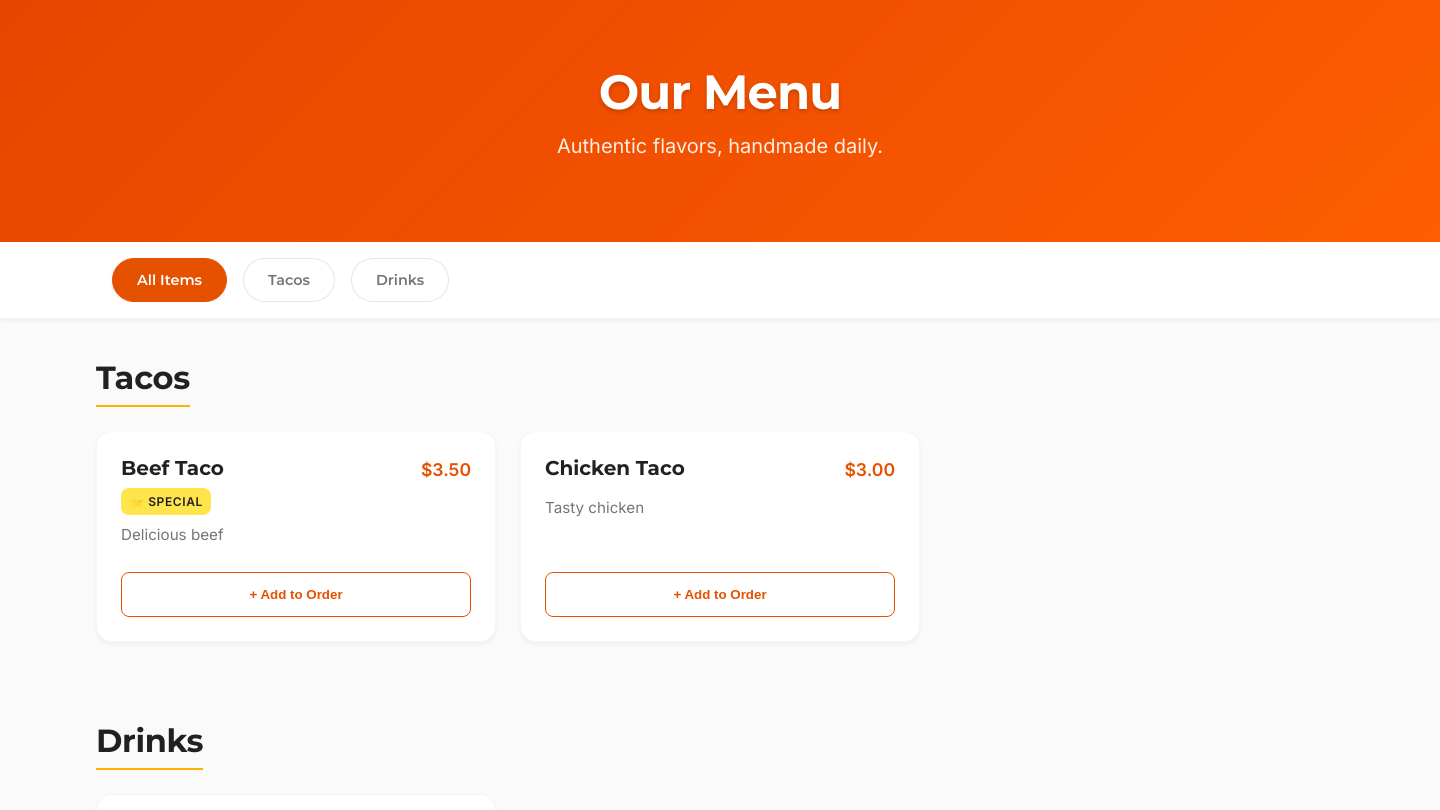
Scenario: Menu Page › filters menu items by category
Expected: the heading "Our Menu" is shown, x1=599 y1=63 x2=841 y2=121
Expected: the heading "Beef Taco" is shown, x1=121 y1=456 x2=224 y2=480
# Click Drinks category button
Click the button "Drinks". click: click(400, 280)
box: x1=351 y1=258 x2=449 y2=302
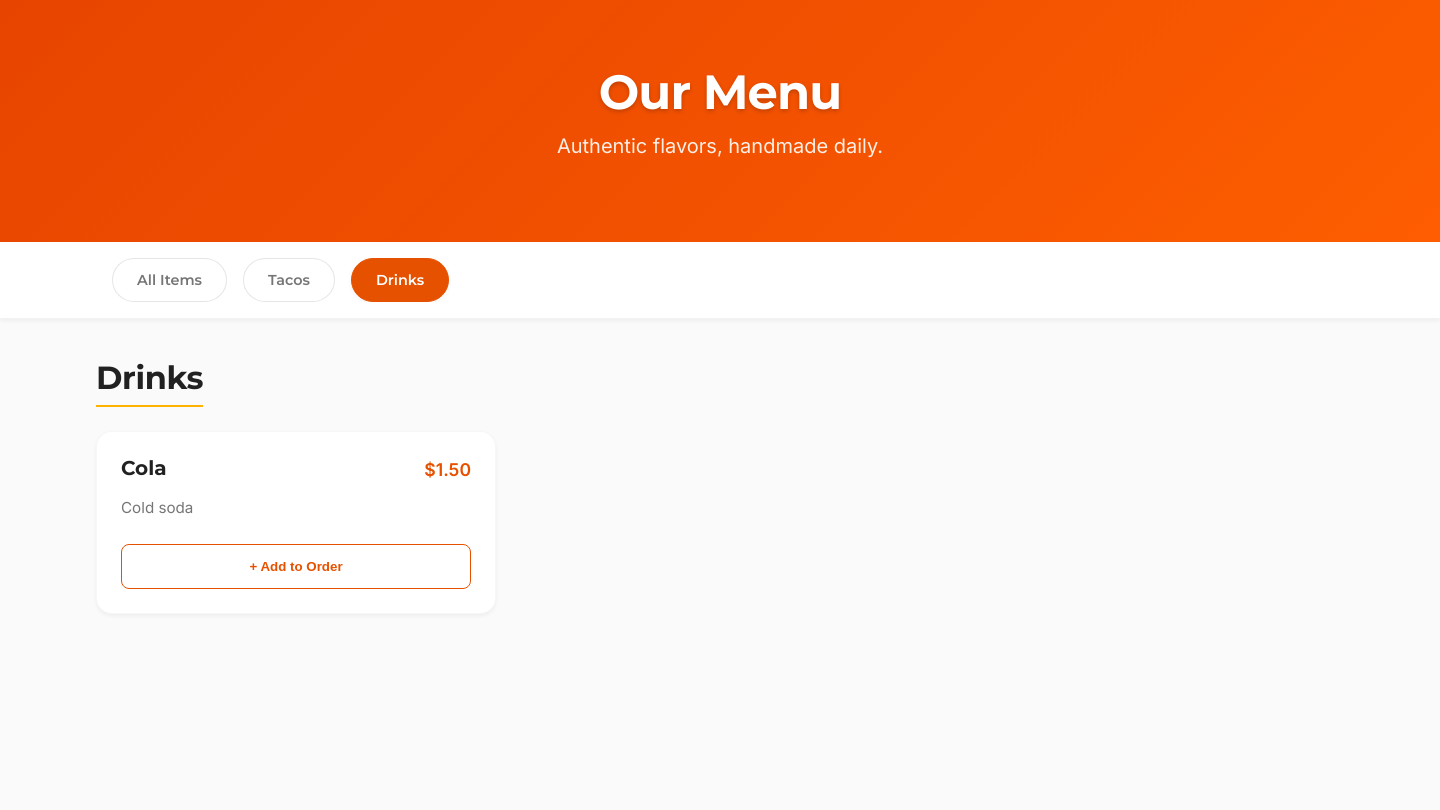
Expected: the heading "Cola" is shown, x1=121 y1=456 x2=167 y2=480
Expected: the heading "Beef Taco" is gone
# Click All Items button
Click the button "All Items". click: click(170, 280)
box: x1=112 y1=258 x2=227 y2=302
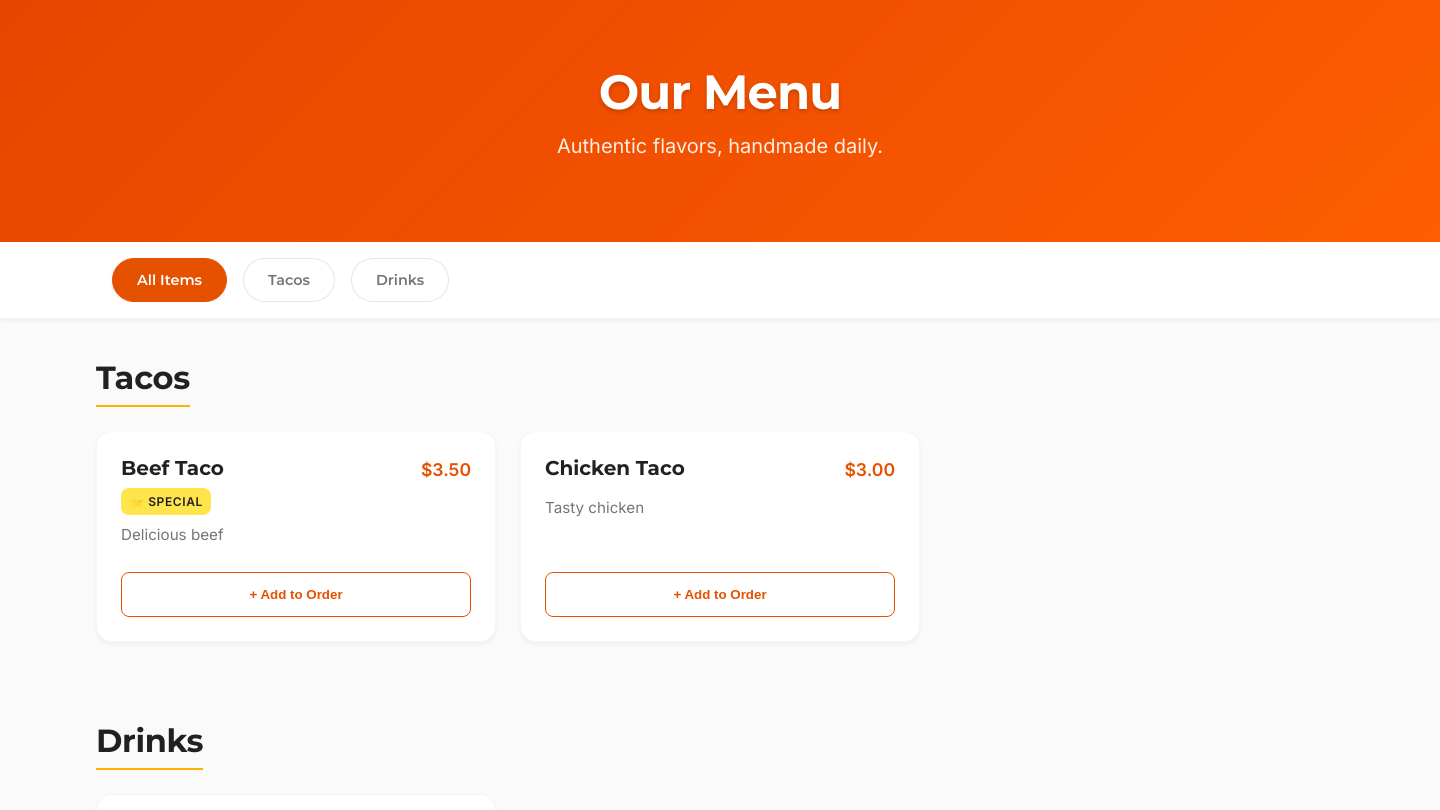
Expected: the heading "Beef Taco" is shown, x1=121 y1=456 x2=224 y2=480
